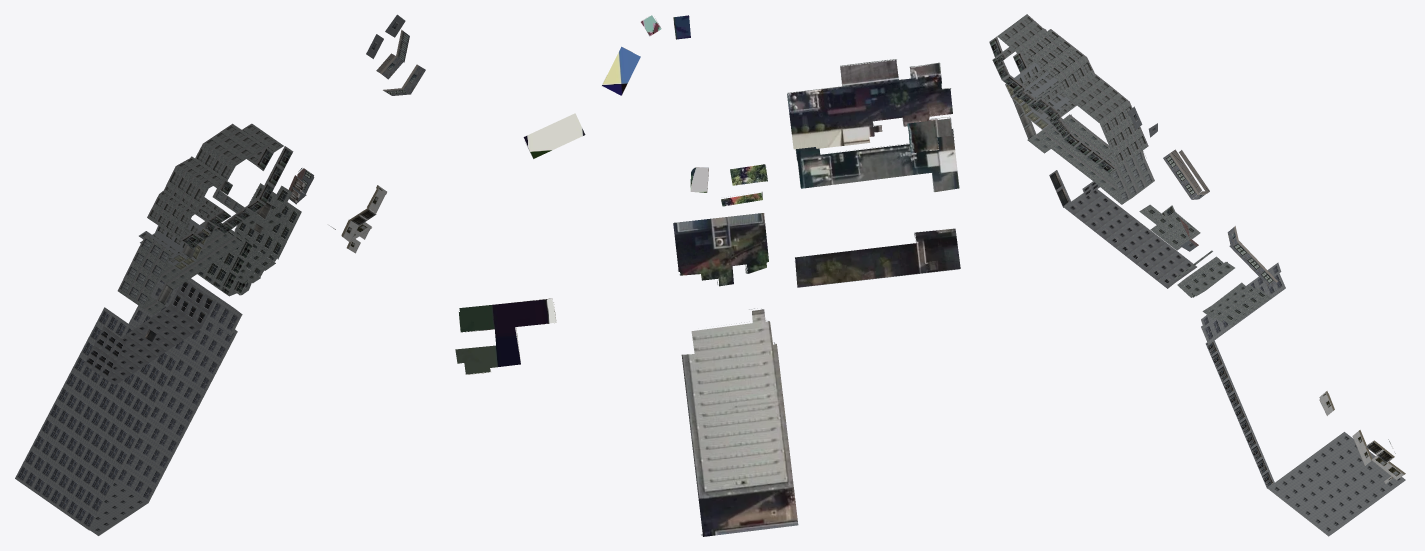
File: tile_LOD4_r7_c7.glb
3 renders of one model, left to right at view 1: azimuth 30°, elevation 25°; view 2: azimuth 150°, elevation 25°; view 3: azimuth 270°, elevation 25°, orthographic. The views are drawn at different scales.
Size of the model in its own units: 158 by 173 by 134.
Materials: 49 (49 with a texture image).
